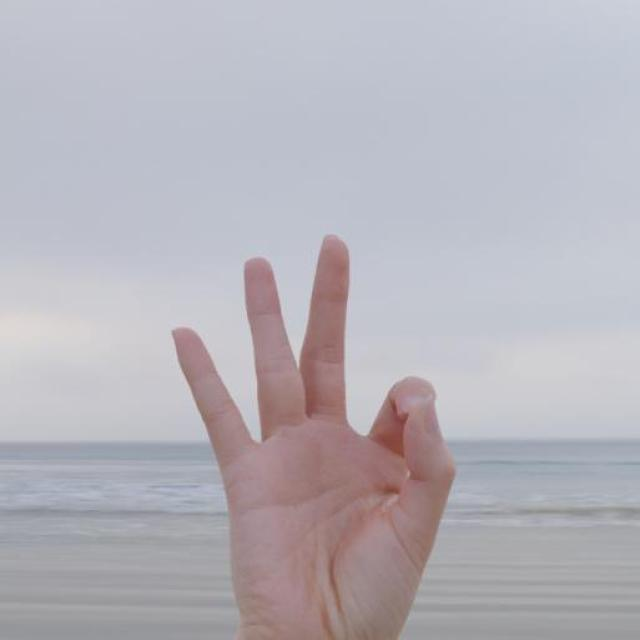F: (165, 229, 468, 640)
